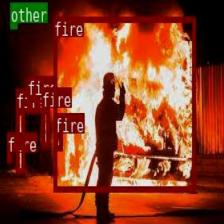fire: (53, 15, 195, 191), (16, 109, 24, 173), (41, 108, 50, 146), (26, 95, 40, 112), (54, 134, 62, 150), (7, 152, 11, 163)
